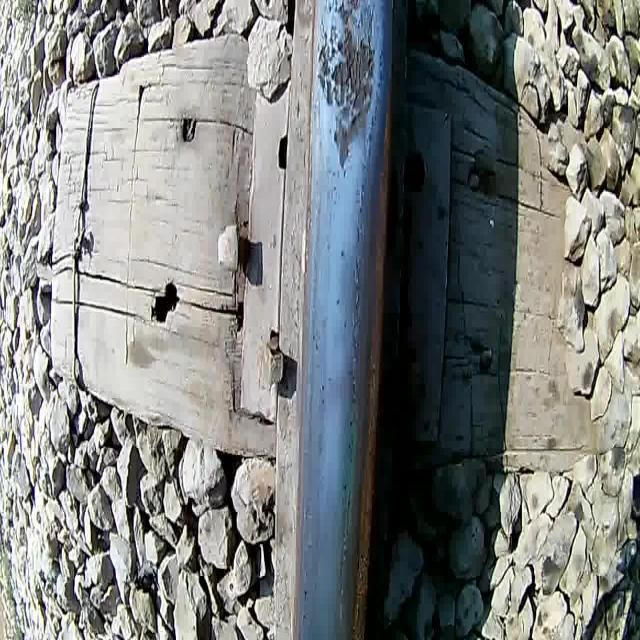Spallings: (328, 0, 378, 112)
Squats: (311, 0, 387, 186)
